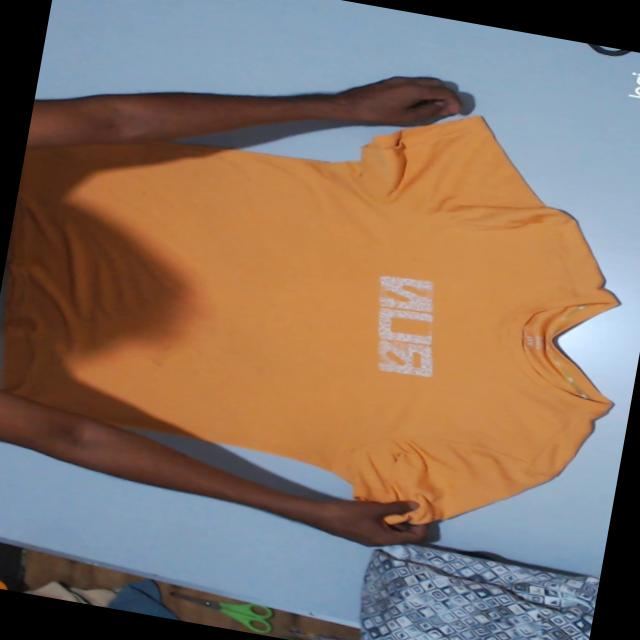new-garment: (1, 116, 616, 522)
